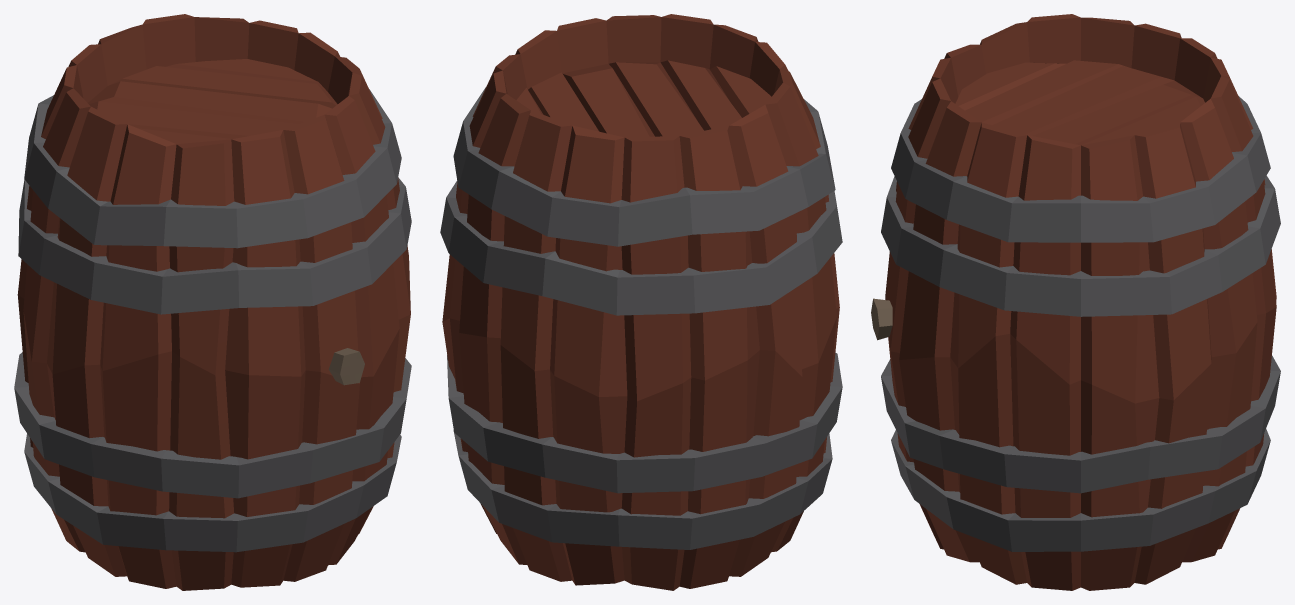
The model's file is SM_Prop_Barrel_03.glb.
3 views of the same model, side by side, from view 1: azimuth 30°, elevation 25°; view 2: azimuth 150°, elevation 25°; view 3: azimuth 270°, elevation 25° (orthographic).
Visible parts, largest first — view 1: SM_Prop_Barrel_03; view 2: SM_Prop_Barrel_03; view 3: SM_Prop_Barrel_03.
Part boxes in pixels (x1,y1,x2,y2): SM_Prop_Barrel_03: (14, 14, 411, 590); SM_Prop_Barrel_03: (440, 14, 842, 590); SM_Prop_Barrel_03: (871, 14, 1280, 590).
Size of the model in its own units: 0.00858 by 0.0107 by 0.00879.
